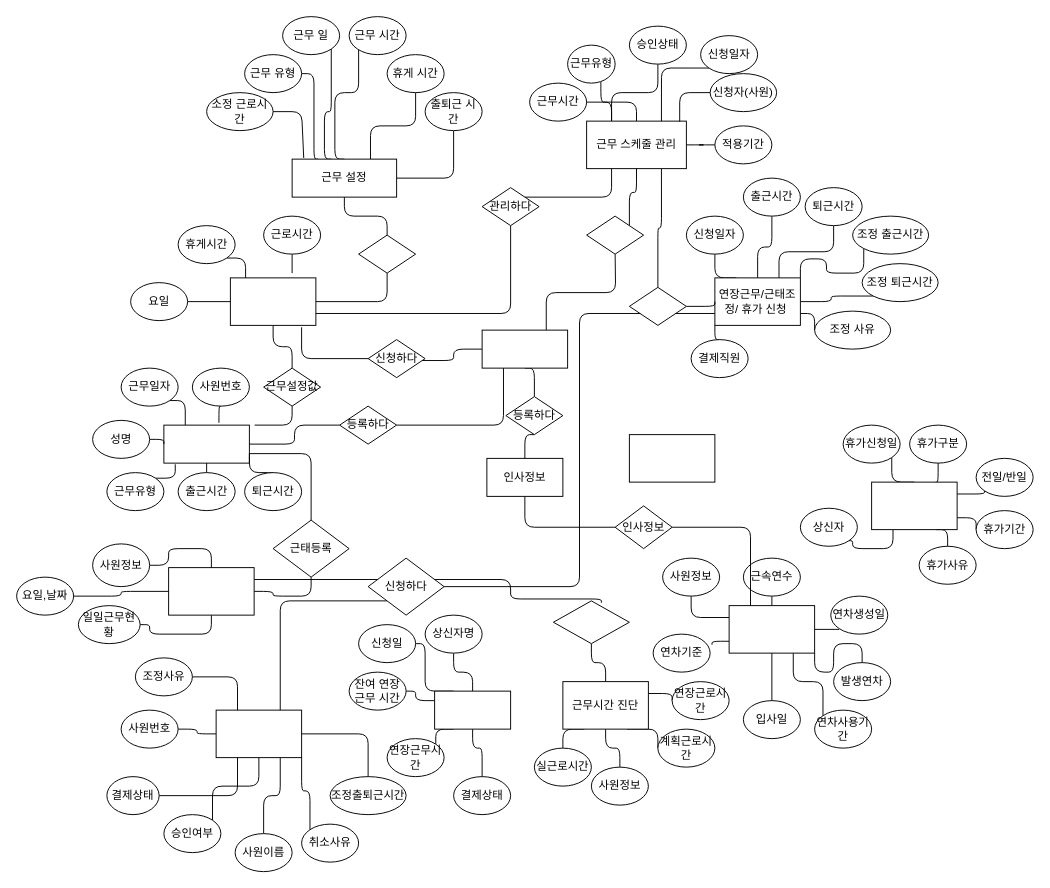
Image size: 1050x888. Some labels were removed from this diagram. Here are the shapes that lost their labels. From the top down, the box of each, then its label:
(358, 234, 416, 273): 설정하다
(586, 215, 644, 254): 권한있다
(229, 277, 316, 325): 근무 스케줄 신청
(628, 286, 686, 325): 스케줄정보
(481, 329, 568, 368): 사원(멤버)
(163, 424, 249, 463): 일일근태 등록
(628, 434, 715, 482): 휴가 사용 현황
(871, 481, 957, 530): 휴가신청
(168, 567, 254, 615): 월간 근태관리
(552, 600, 629, 644): 근태현황
(728, 605, 815, 653): 연차생성
(434, 690, 511, 729): 전자결제 진행상태 조회
(215, 709, 302, 758): 연장근무/근태조정/휴가 신청 관리
